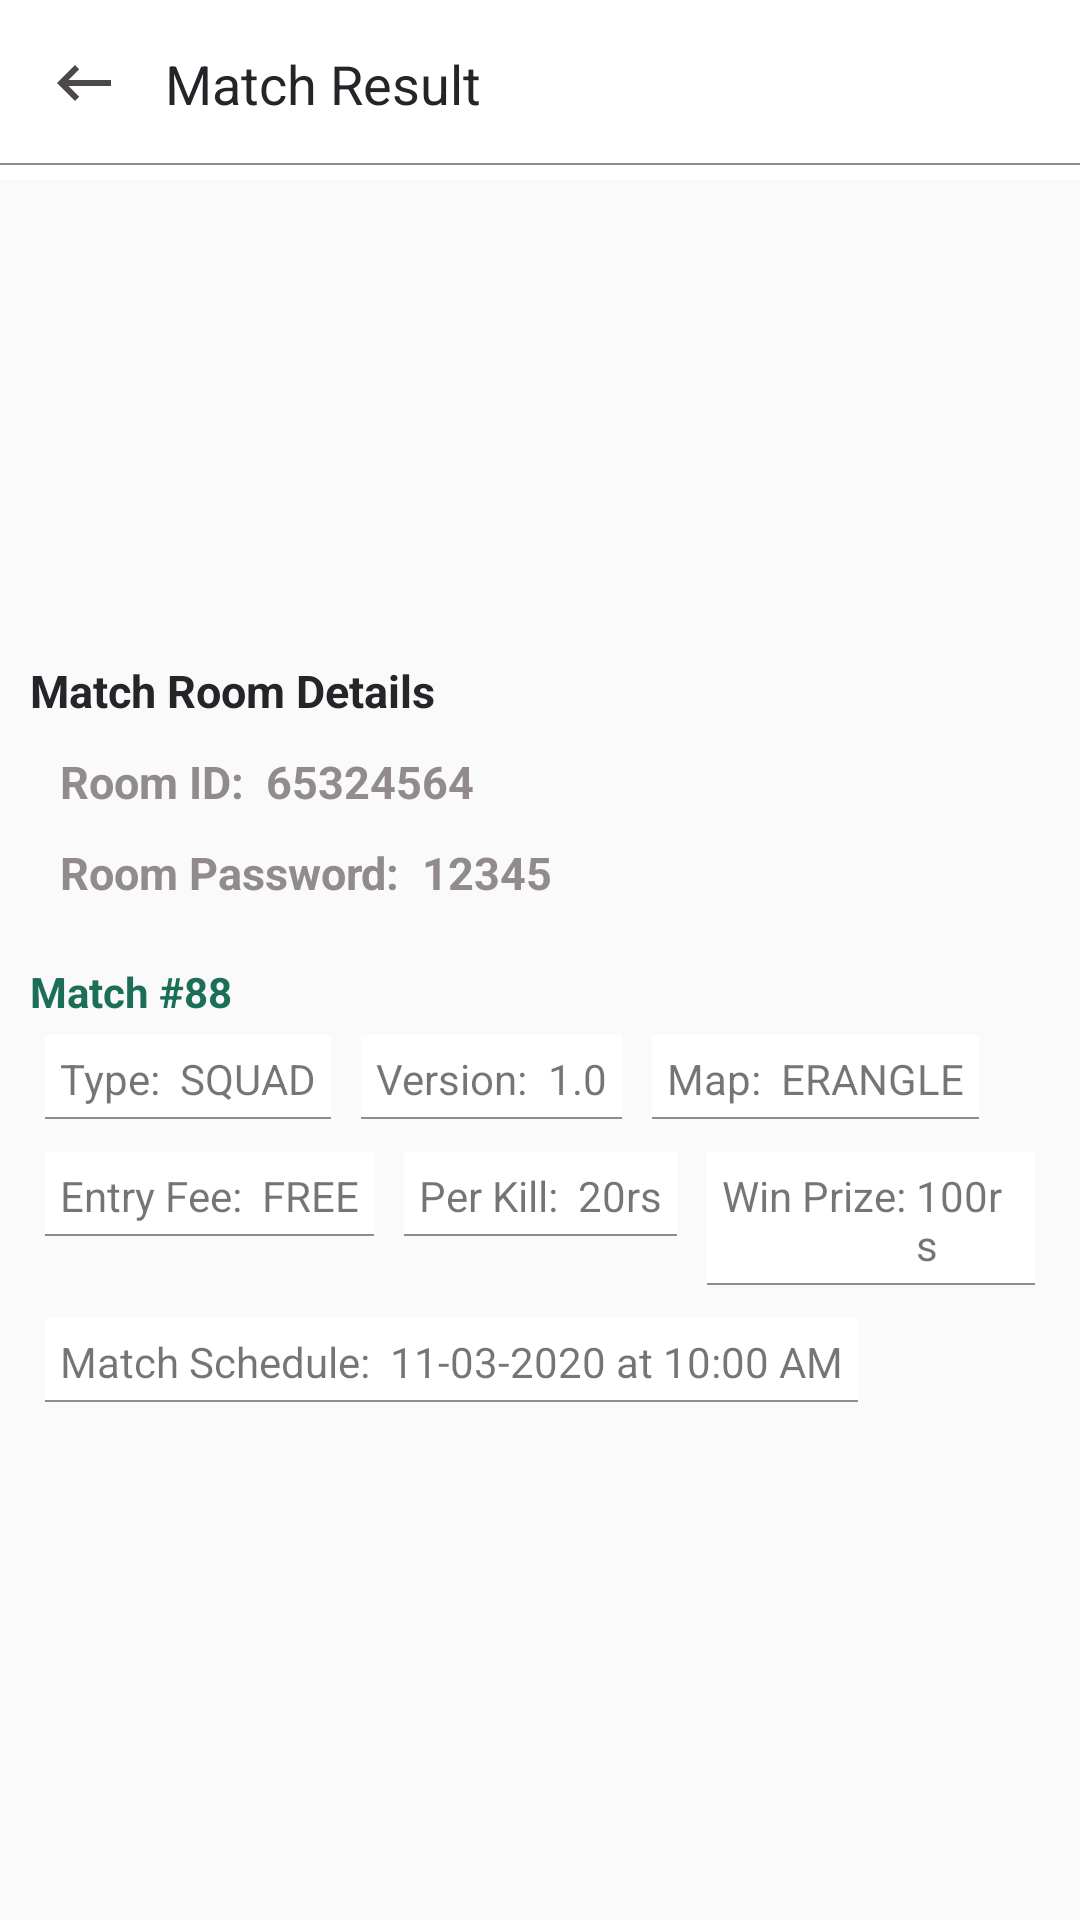

Screen size 1080px x 1920px. Icon name, then its center in pixels as (x=x, y=y):
arrow back: (x=84, y=83)
